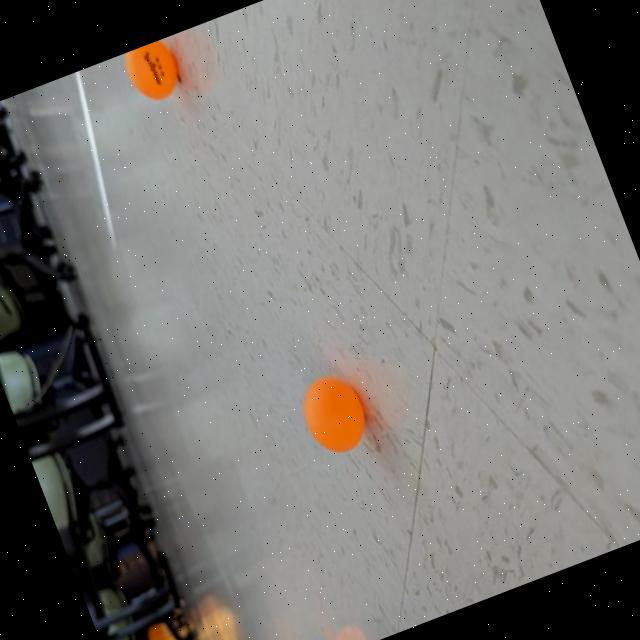ping-pong-ball: (289, 362, 380, 466), (116, 36, 190, 114), (295, 631, 343, 640)
